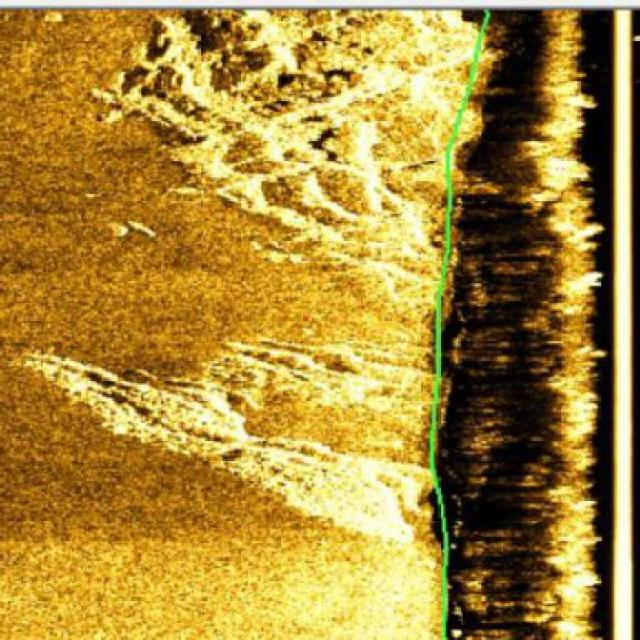bedrock group: (93, 6, 489, 289), (15, 330, 437, 544)
